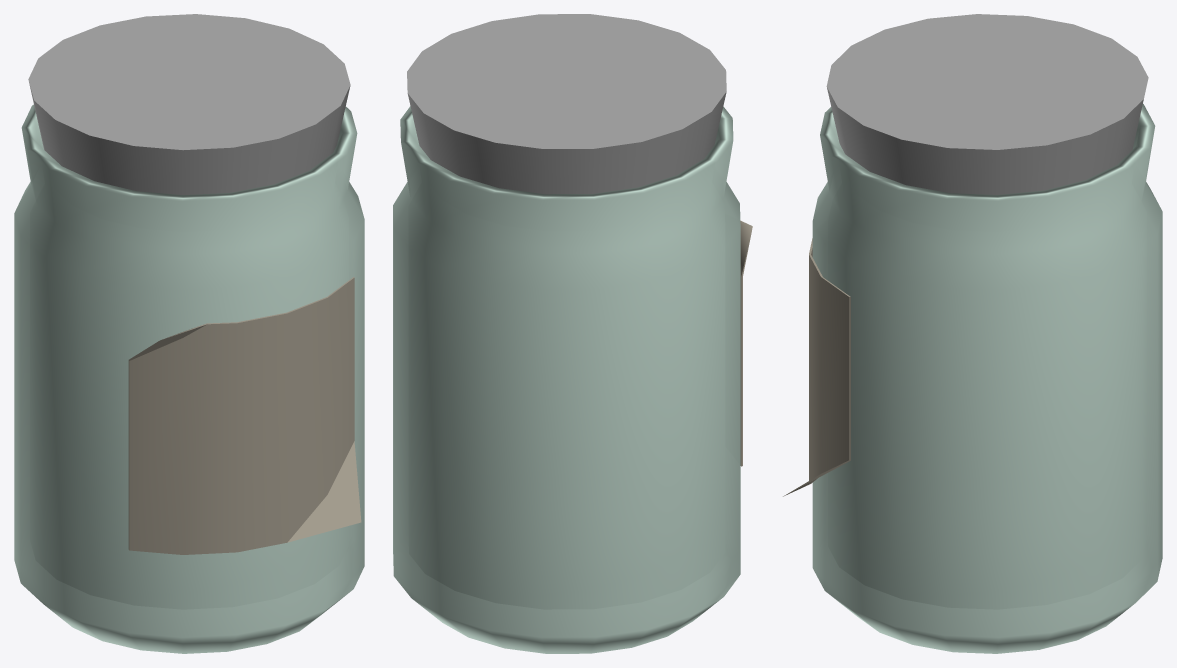
The model's file is Jar_Big.fbx.
3 renders of one model, left to right at view 1: azimuth 30°, elevation 25°; view 2: azimuth 150°, elevation 25°; view 3: azimuth 270°, elevation 25°, orthographic.
Parts seen in each view (by area): view 1: pCylinder43; view 2: pCylinder43; view 3: pCylinder43.
Part boxes in pixels (<box>): pCylinder43: <box>14,14,364,653</box>; pCylinder43: <box>393,14,752,653</box>; pCylinder43: <box>783,14,1162,653</box>.
Bounding box in the file's own units: 7.96 × 12.87 × 8.67.
